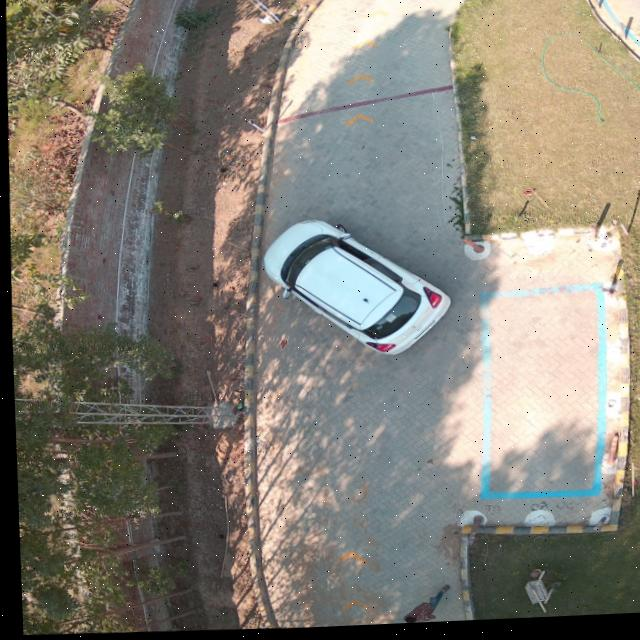car: (262, 221, 449, 358)
